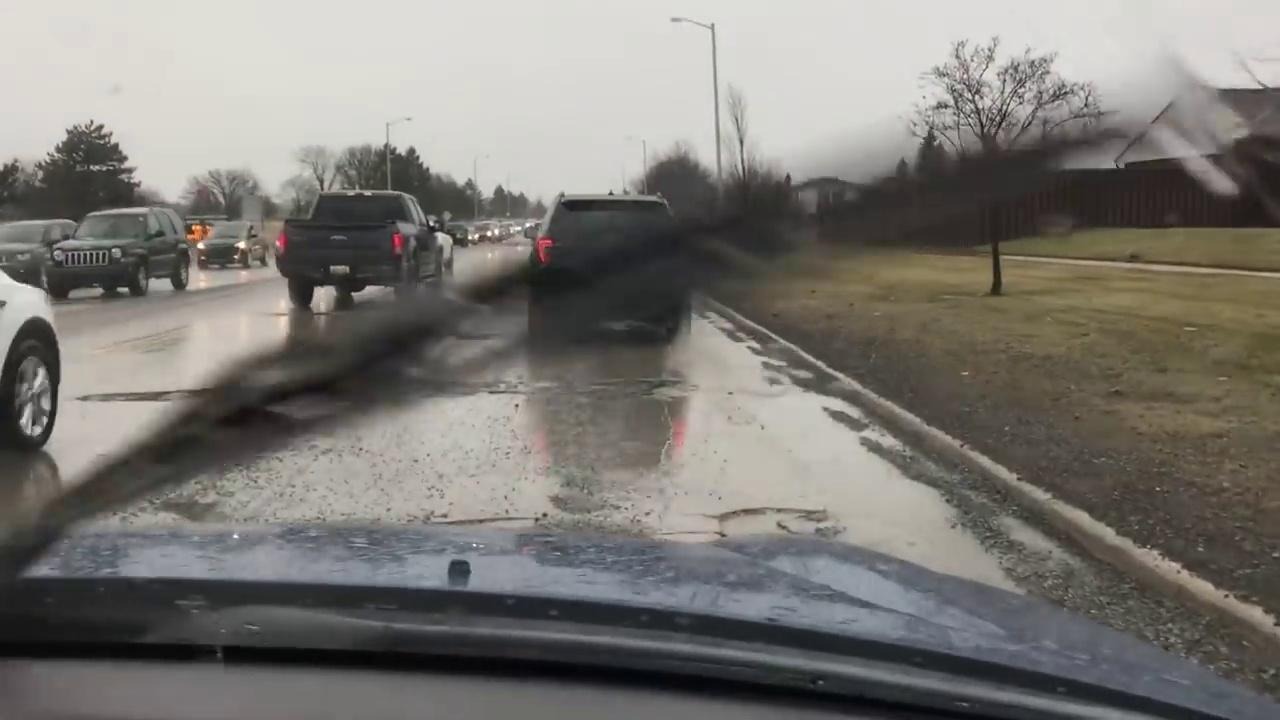pothole: (702, 509, 839, 536), (76, 389, 198, 401)
